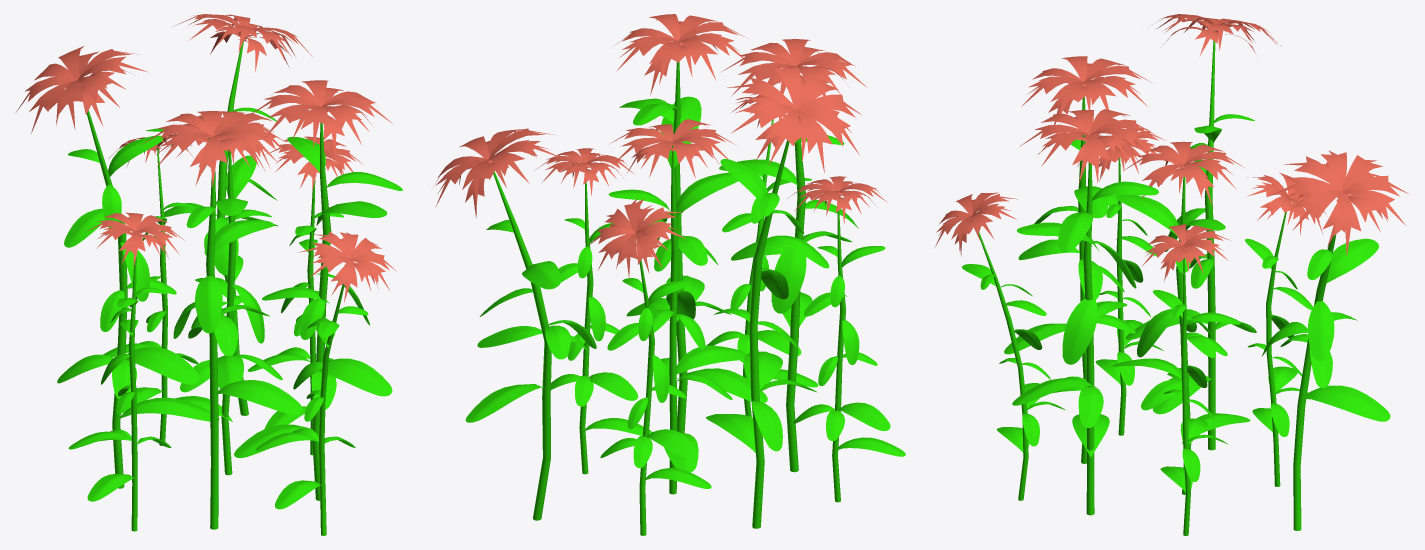
The model's file is Flower.fbx.
3 views of the same model, side by side, from view 1: azimuth 30°, elevation 25°; view 2: azimuth 150°, elevation 25°; view 3: azimuth 270°, elevation 25° (orthographic). The views are drawn at different scales.
Visible parts, largest first — view 1: Flowers; view 2: Flowers; view 3: Flowers.
Boxes of the visible parts, x1,y1,x2,y2 form: Flowers: [16, 14, 402, 535]; Flowers: [434, 14, 905, 535]; Flowers: [935, 14, 1409, 535].
Bounding box in the file's own units: 91.78 × 113 × 114.
